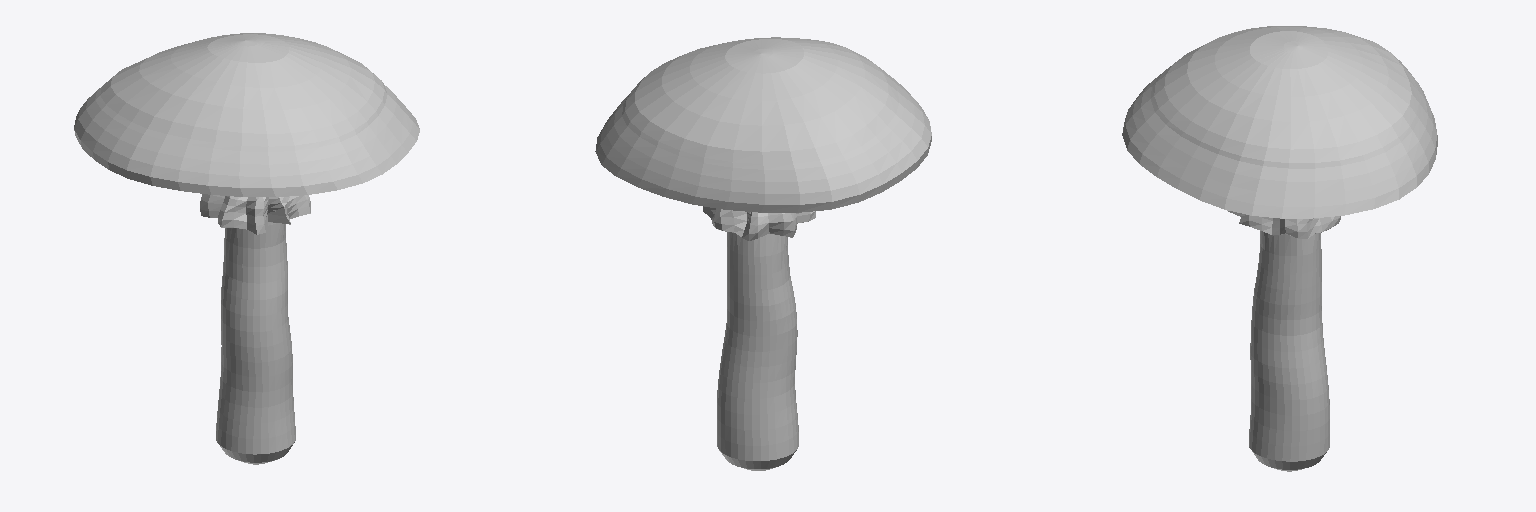
File: blednaya-poganka.obj
3 renders of one model, left to right at view 1: azimuth 30°, elevation 25°; view 2: azimuth 150°, elevation 25°; view 3: azimuth 270°, elevation 25°, orthographic.
Parts seen in each view (by area): view 1: Cylinder; view 2: Cylinder; view 3: Cylinder.
Boxes of the visible parts, <box> form: Cylinder: <box>74,33,419,464</box>; Cylinder: <box>595,37,931,470</box>; Cylinder: <box>1122,26,1437,471</box>.
Bounding box in the file's own units: 1.75 × 2.35 × 1.61.